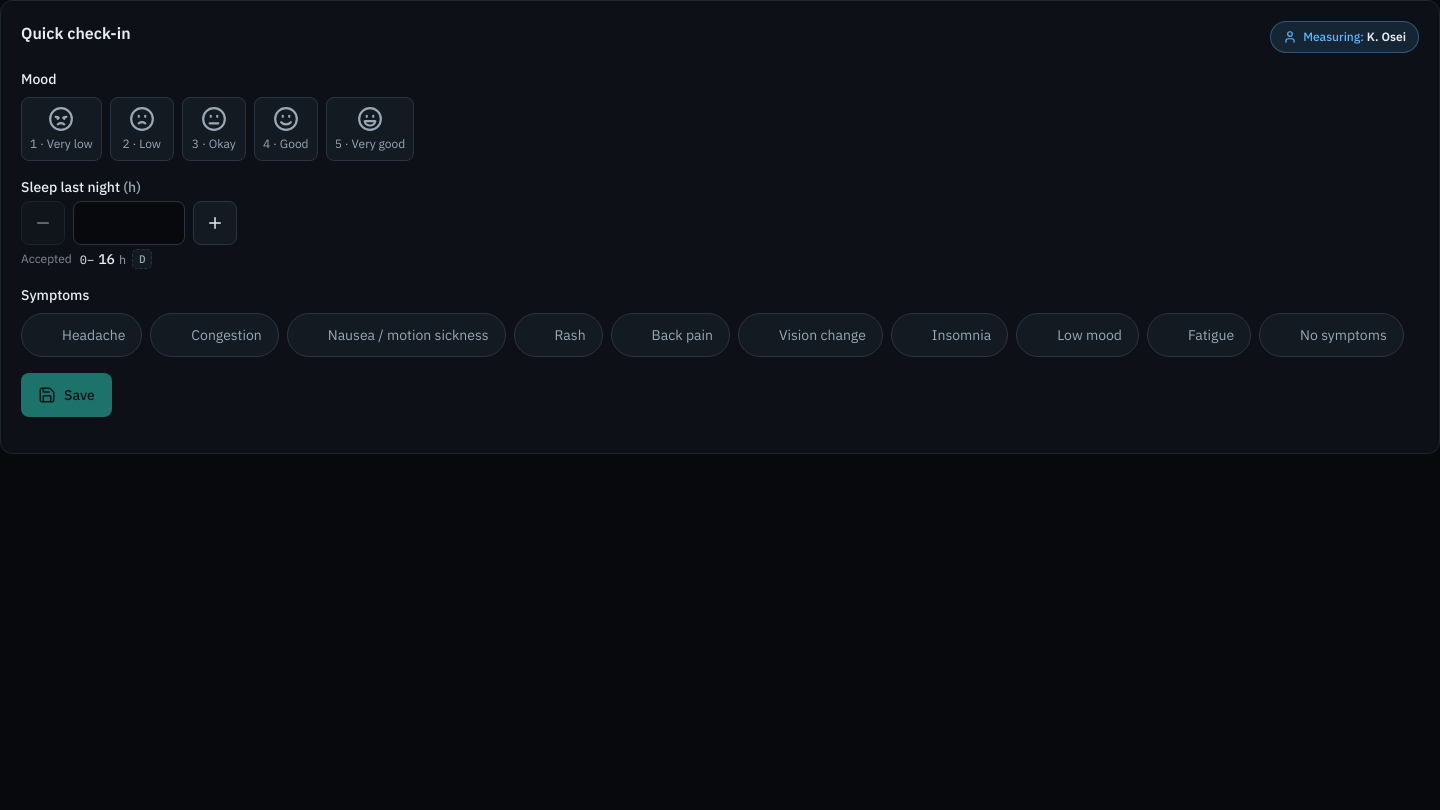
Scenario: QuickCheckIn › reports failed saves honestly
This screenshot has width=1440, height=810.
Click the radio button with aria-label "3 – Okay".
click(214, 129)  # box [182, 97, 246, 161]
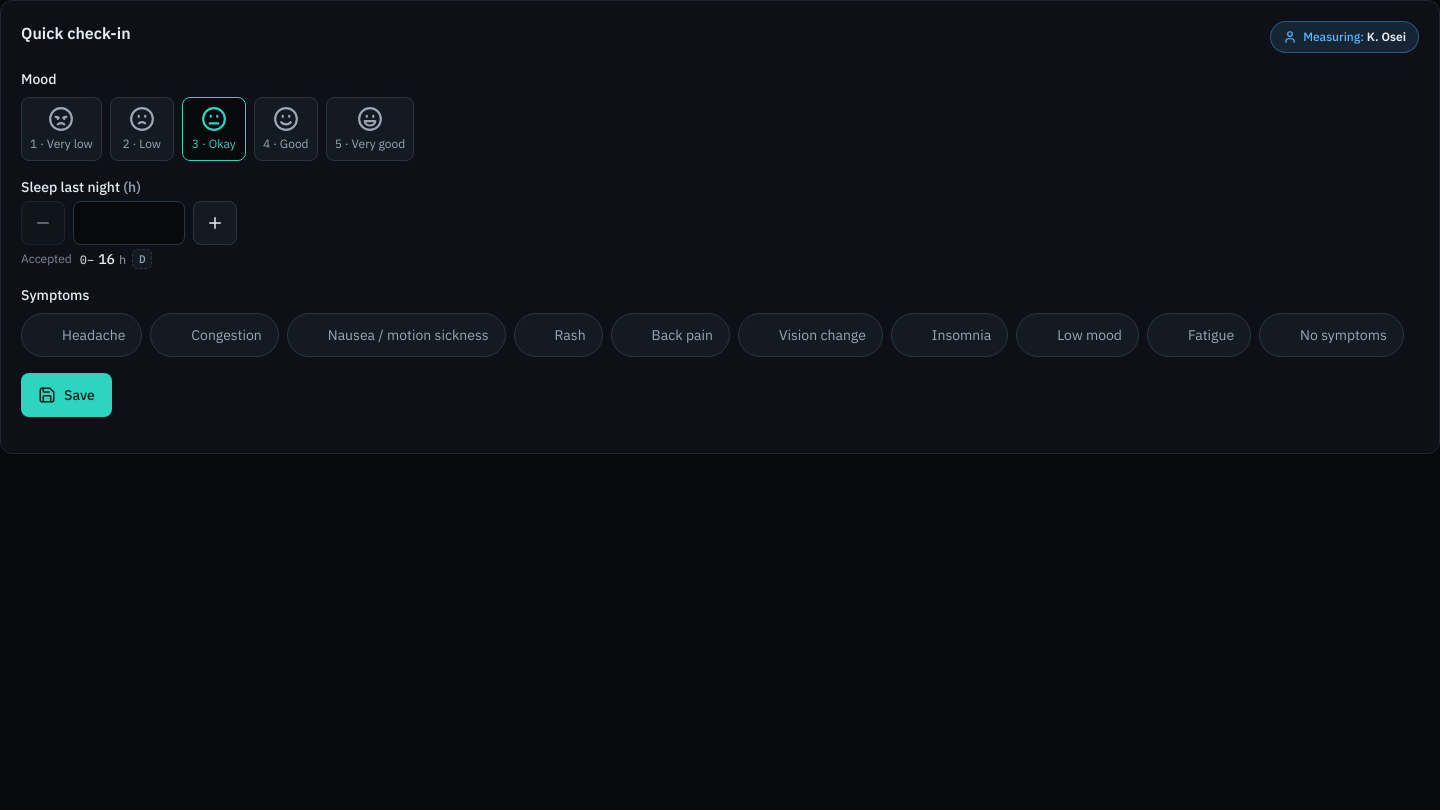
Click the button "Save".
click(66, 395)  # box [21, 373, 112, 417]
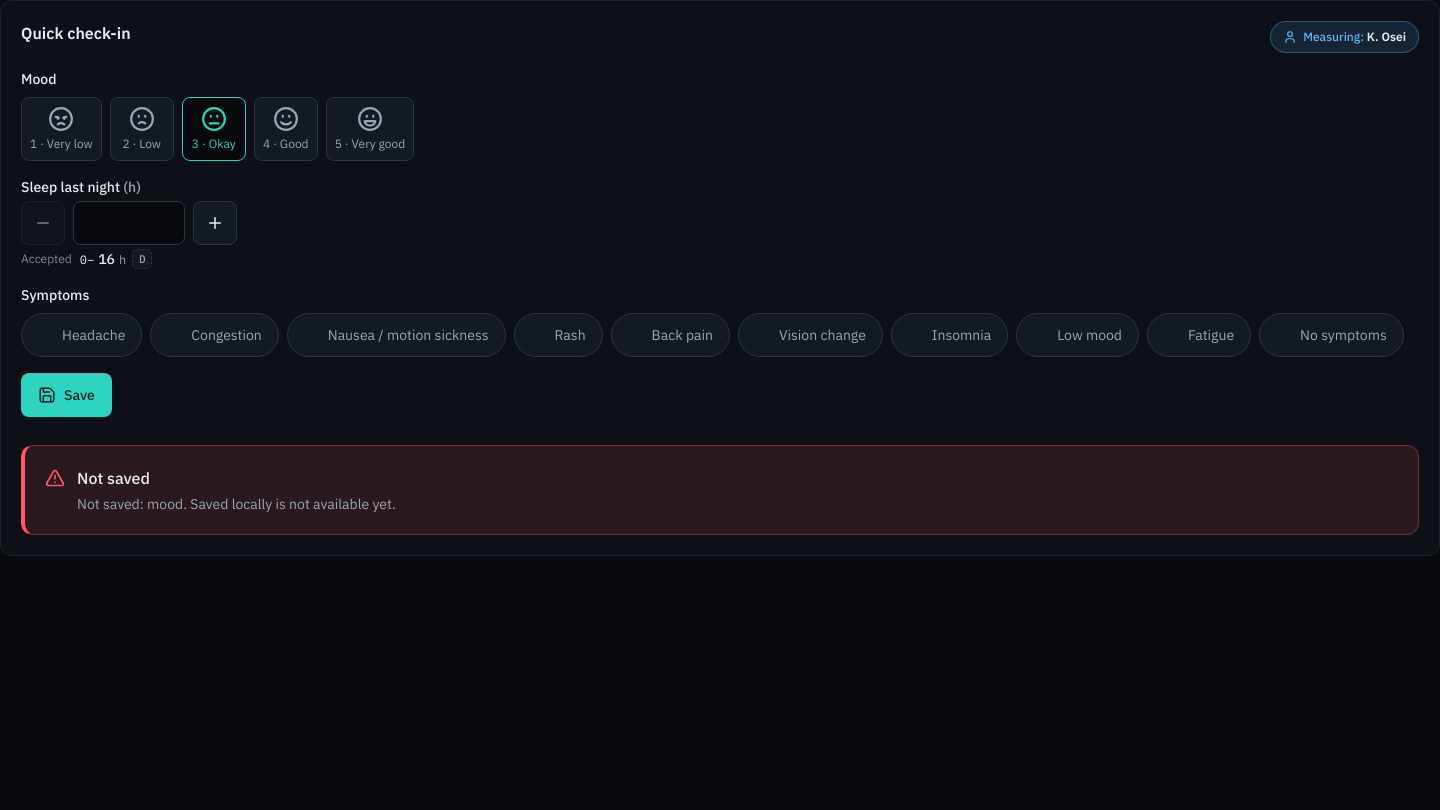
Result: the message shows "Not saved: mood. Saved locally is not available yet." at [77, 495, 396, 513]
